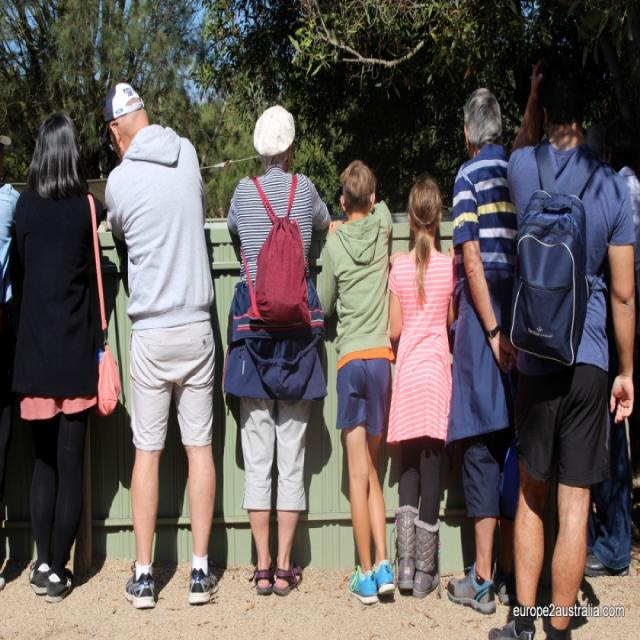body: (485, 51, 639, 639), (101, 76, 220, 612), (221, 101, 333, 600), (9, 111, 108, 607), (443, 85, 519, 618), (314, 157, 397, 608), (385, 173, 457, 601), (580, 114, 640, 582), (0, 146, 24, 585), (582, 113, 632, 174)
